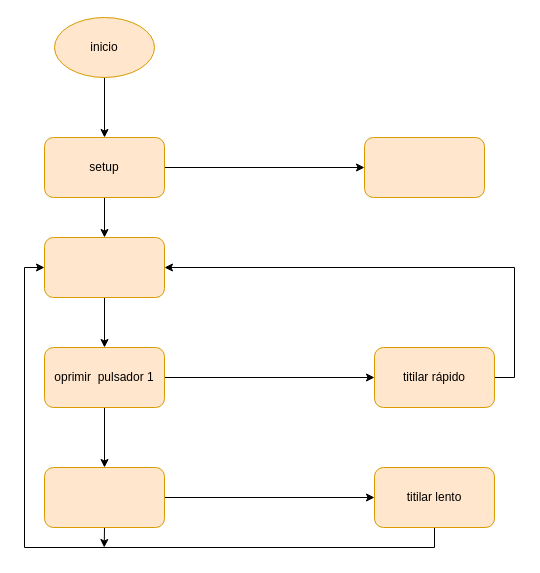
Image size: 540x573. Some labels were removed from this diagram. Each missing label, with the centre of its shape:
"declarar 2 pulsadores y 1 led" goes at (424,167).
"loop" goes at (104,267).
"oprimir pulsador 2" goes at (104,497).
